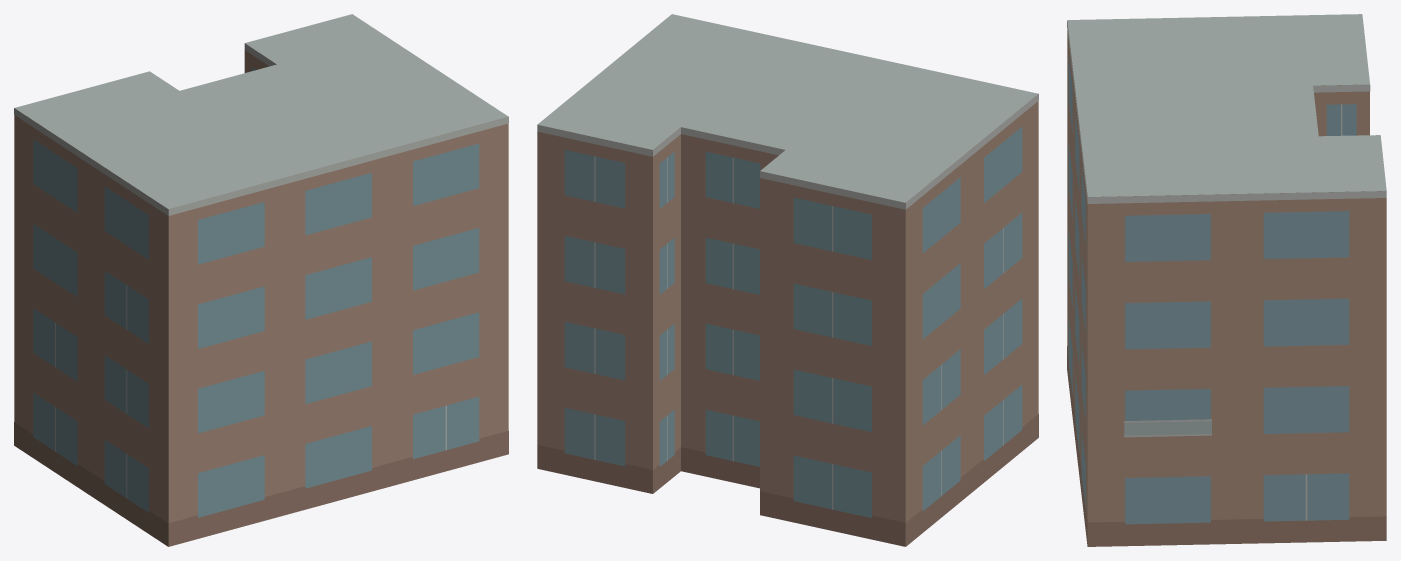
File: residential-72898934-4c63-4594-b9e4-d2fd2a42fdee.glb
3 renders of one model, left to right at view 1: azimuth 30°, elevation 25°; view 2: azimuth 150°, elevation 25°; view 3: azimuth 270°, elevation 25°, orthographic. The views are drawn at different scales.
Visible parts, largest first — view 1: residential-72898934-4c63-4594-b9e4-d2fd2a42fdee.tmp; view 2: residential-72898934-4c63-4594-b9e4-d2fd2a42fdee.tmp; view 3: residential-72898934-4c63-4594-b9e4-d2fd2a42fdee.tmp.
Boxes of the visible parts, x1,y1,x2,y2 form: residential-72898934-4c63-4594-b9e4-d2fd2a42fdee.tmp: (14, 14, 508, 546); residential-72898934-4c63-4594-b9e4-d2fd2a42fdee.tmp: (537, 14, 1038, 546); residential-72898934-4c63-4594-b9e4-d2fd2a42fdee.tmp: (1067, 14, 1386, 546).
Bounding box in the file's own units: 13.7 × 12.2 × 10.11.
